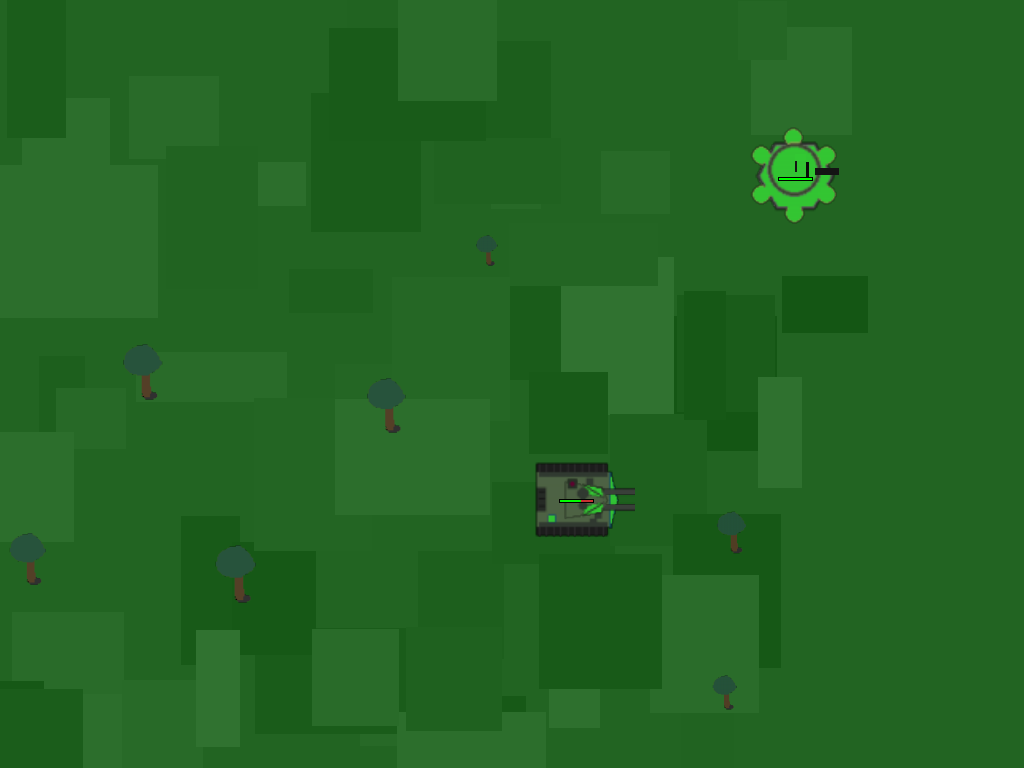APC_chn: (747, 129, 804, 223)
MiningRig: (537, 459, 614, 536)
